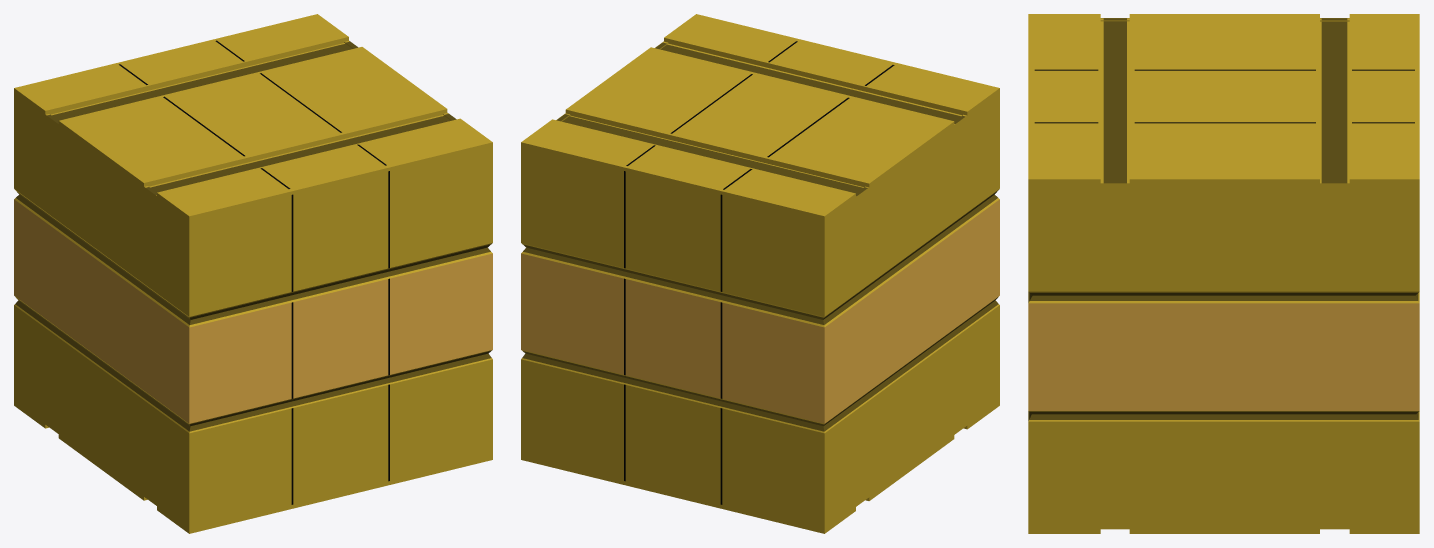
The model's file is buoys.fbx.
3 views of the same model, side by side, from view 1: azimuth 30°, elevation 25°; view 2: azimuth 150°, elevation 25°; view 3: azimuth 270°, elevation 25° (orthographic). The views are drawn at different scales.
Visible parts, largest first — view 1: Hauptkörper.001; view 2: Hauptkörper.001; view 3: Hauptkörper.001.
Part boxes in pixels (bbox=[...]): Hauptkörper.001: bbox=[14, 14, 492, 533]; Hauptkörper.001: bbox=[521, 14, 999, 533]; Hauptkörper.001: bbox=[1028, 14, 1419, 533].
Size of the model in its own units: 200 by 220 by 200.
